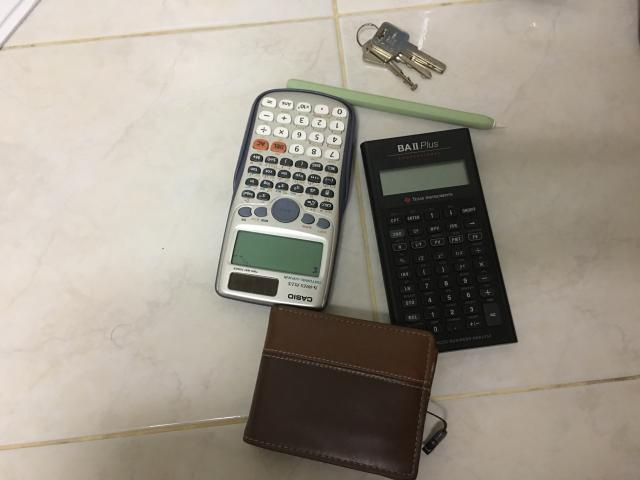Keys: (361, 22, 446, 89)
Wallet: (244, 305, 438, 479)
